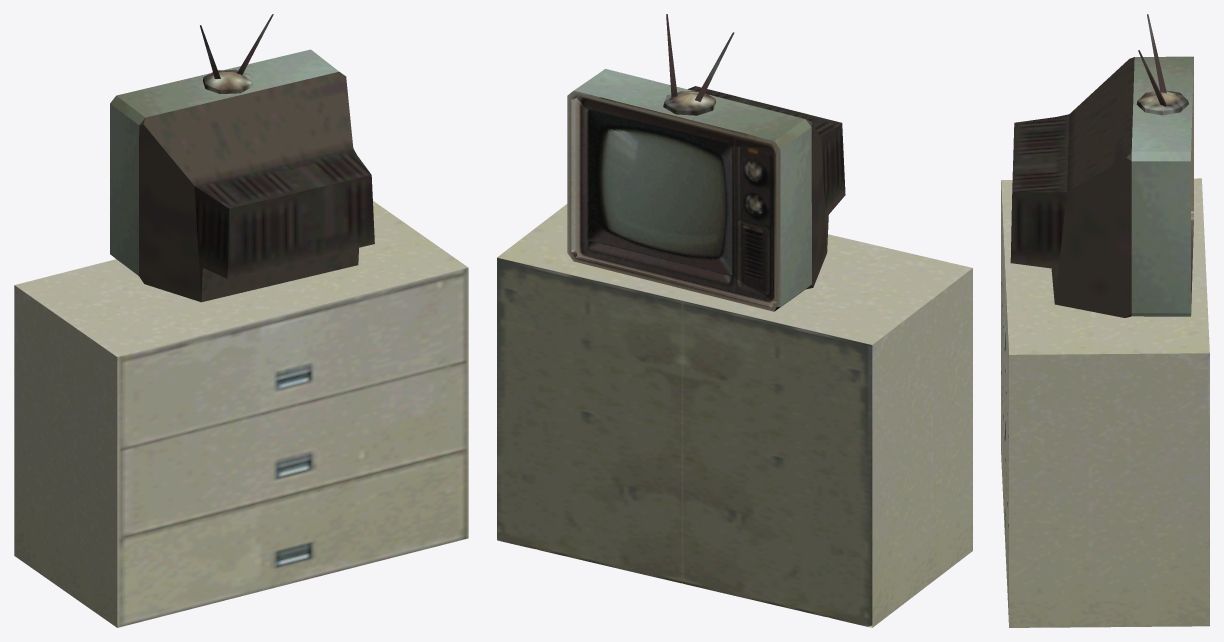
3 renders of one model, left to right at view 1: azimuth 30°, elevation 25°; view 2: azimuth 150°, elevation 25°; view 3: azimuth 270°, elevation 25°, orthographic. The views are drawn at different scales.
Visible parts, largest first — view 1: file_cabinet_larger, computer_monitor.014; view 2: file_cabinet_larger, computer_monitor.014; view 3: file_cabinet_larger, computer_monitor.014.
Boxes of the visible parts, x1,y1,x2,y2 form: file_cabinet_larger: (14, 201, 468, 627); computer_monitor.014: (110, 14, 374, 302); file_cabinet_larger: (497, 204, 972, 627); computer_monitor.014: (567, 14, 845, 311); file_cabinet_larger: (1001, 178, 1209, 627); computer_monitor.014: (1010, 14, 1193, 317).
Size of the model in its own units: 145 by 198 by 72.72.
